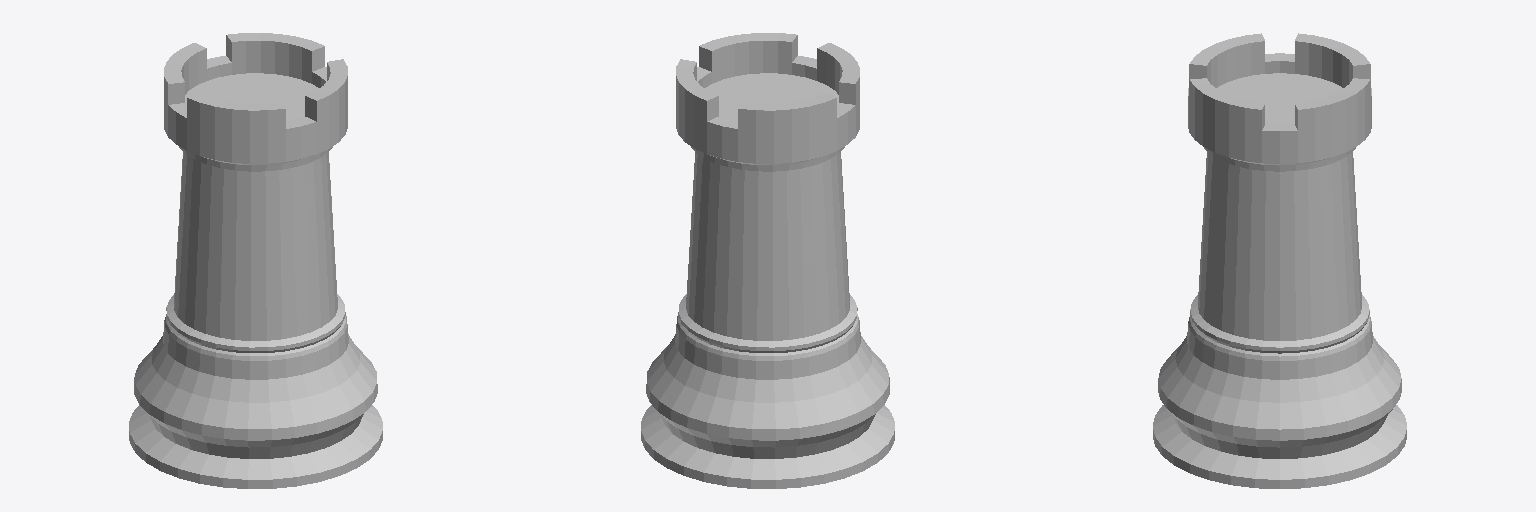
Rendered from wieza.obj.
3 renders of one model, left to right at view 1: azimuth 30°, elevation 25°; view 2: azimuth 150°, elevation 25°; view 3: azimuth 270°, elevation 25°, orthographic.
Parts seen in each view (by area): view 1: Circle_Circle.001; view 2: Circle_Circle.001; view 3: Circle_Circle.001.
Boxes of the visible parts, x1,y1,x2,y2 form: Circle_Circle.001: [129, 33, 382, 488]; Circle_Circle.001: [641, 33, 894, 488]; Circle_Circle.001: [1153, 33, 1406, 488].
Size of the model in its own units: 1.47 by 2.34 by 1.47.